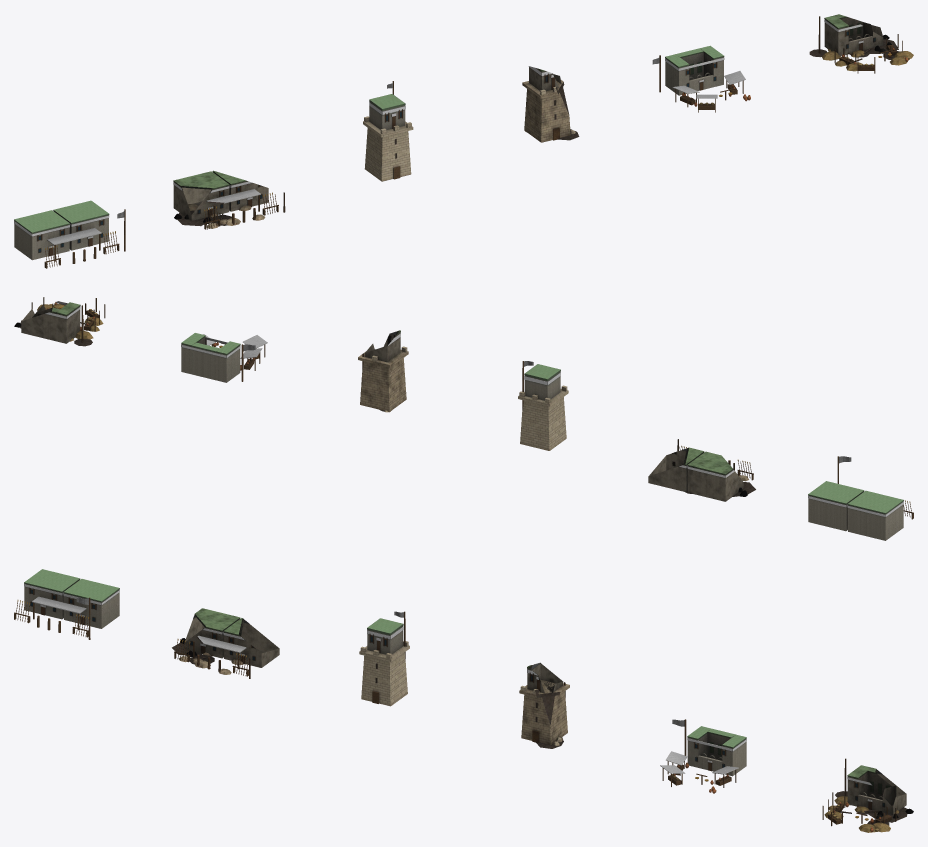
The model's file is rts-gunpowder-maghreb.glb.
3 views of the same model, one above another, from view 1: azimuth 30°, elevation 25°; view 2: azimuth 150°, elevation 25°; view 3: azimuth 330°, elevation 25° (orthographic).
Parts seen in each view (by area): view 1: LOD0, LOD0.001, LOD0.002, LOD0.005, LOD0.004, LOD0.003; view 2: LOD0, LOD0.001, LOD0.002, LOD0.004, LOD0.003, LOD0.005; view 3: LOD0, LOD0.001, LOD0.002, LOD0.005, LOD0.004, LOD0.003.
Part boxes in pixels (box(x1,y1,x2,y2)): LOD0: box(14, 200, 125, 268); LOD0.001: box(173, 170, 285, 229); LOD0.002: box(363, 81, 413, 181); LOD0.005: box(809, 14, 913, 73); LOD0.004: box(652, 45, 750, 112); LOD0.003: box(522, 66, 579, 142); LOD0: box(808, 456, 913, 540); LOD0.001: box(648, 439, 755, 501); LOD0.002: box(518, 361, 568, 450); LOD0.004: box(181, 333, 267, 382); LOD0.003: box(358, 330, 408, 412); LOD0.005: box(14, 297, 105, 346); LOD0: box(14, 569, 119, 639); LOD0.001: box(172, 608, 279, 678); LOD0.002: box(359, 611, 409, 706); LOD0.005: box(822, 758, 913, 832); LOD0.004: box(660, 719, 746, 793); LOD0.003: box(519, 662, 569, 748).
Size of what is drawn, in the model's own units: 16.41 by 1.48 by 1.36.
2 materials, 2 textured.
